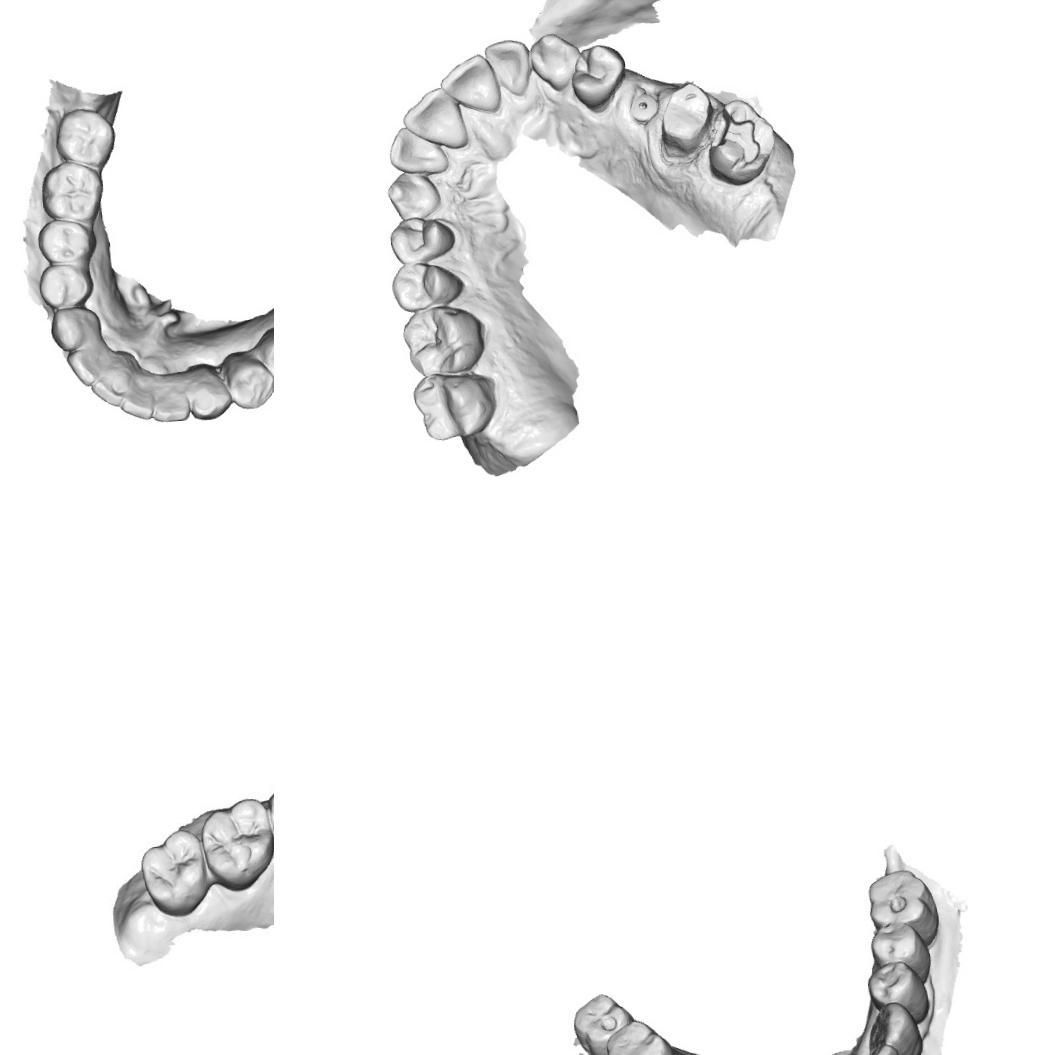canine: (527, 31, 583, 94), (865, 998, 924, 1055), (384, 169, 442, 222), (183, 361, 233, 422), (47, 305, 103, 353)
crown: (654, 80, 718, 166)
implant: (628, 90, 660, 125)
incisor: (399, 84, 468, 152), (438, 50, 501, 115), (386, 122, 449, 178), (482, 37, 532, 97), (147, 373, 190, 428), (115, 370, 160, 420), (87, 365, 137, 409), (63, 344, 113, 388)
inlay: (706, 102, 762, 168)
molar: (135, 825, 215, 919), (202, 795, 274, 890), (410, 368, 497, 443), (399, 302, 486, 377), (864, 866, 940, 950), (38, 159, 106, 226), (567, 988, 635, 1055), (52, 105, 116, 169), (602, 1014, 676, 1055)
premolar: (862, 958, 932, 1027), (568, 42, 628, 114), (389, 258, 464, 314), (870, 917, 931, 983), (387, 213, 456, 266), (221, 347, 274, 411), (34, 215, 99, 265), (36, 260, 96, 311), (252, 324, 274, 386)
